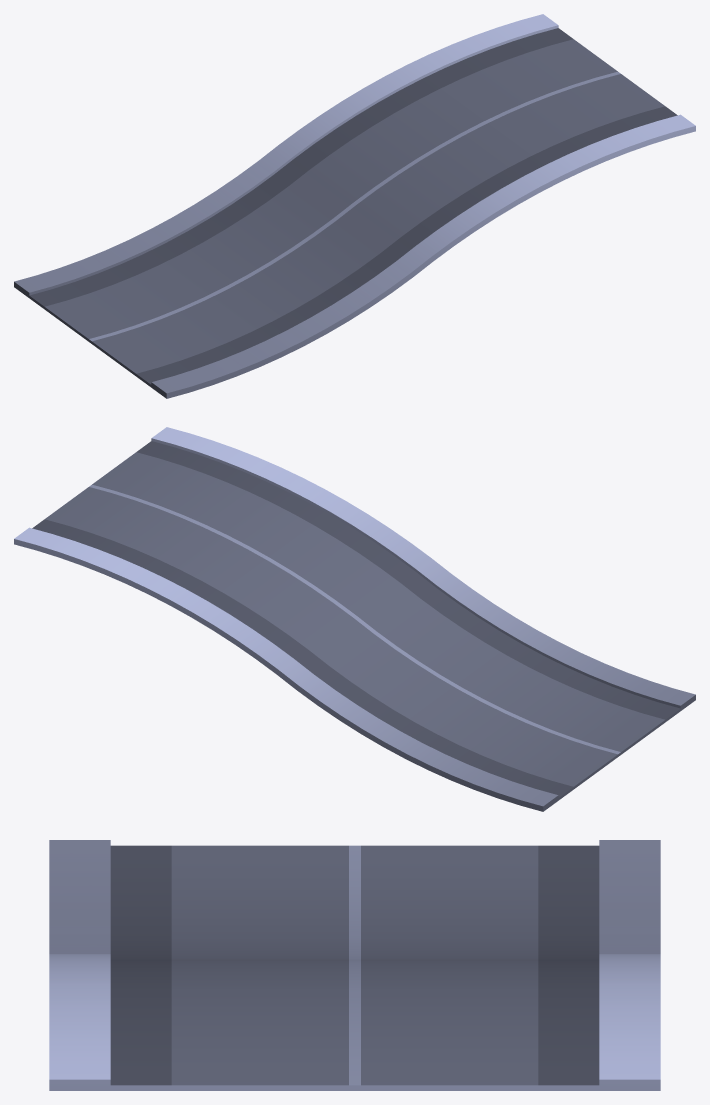
Rendered from road-slant-flat-curve.glb.
3 views of the same model, one above another, from view 1: azimuth 30°, elevation 25°; view 2: azimuth 150°, elevation 25°; view 3: azimuth 270°, elevation 25° (orthographic). The views are drawn at different scales.
Parts seen in each view (by area): view 1: road-slant-flat-curve; view 2: road-slant-flat-curve; view 3: road-slant-flat-curve.
Part boxes in pixels (x1,y1,x2,y2): road-slant-flat-curve: (14,14,695,398); road-slant-flat-curve: (14,427,695,811); road-slant-flat-curve: (49,840,660,1090).
Bounding box in the file's own units: 2 × 0.52 × 1.
1 material, 1 textured.
